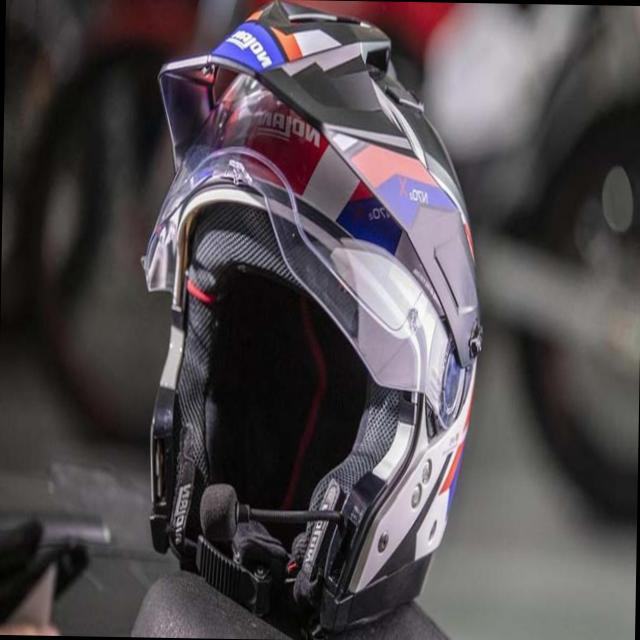Helm: (127, 1, 494, 640)
